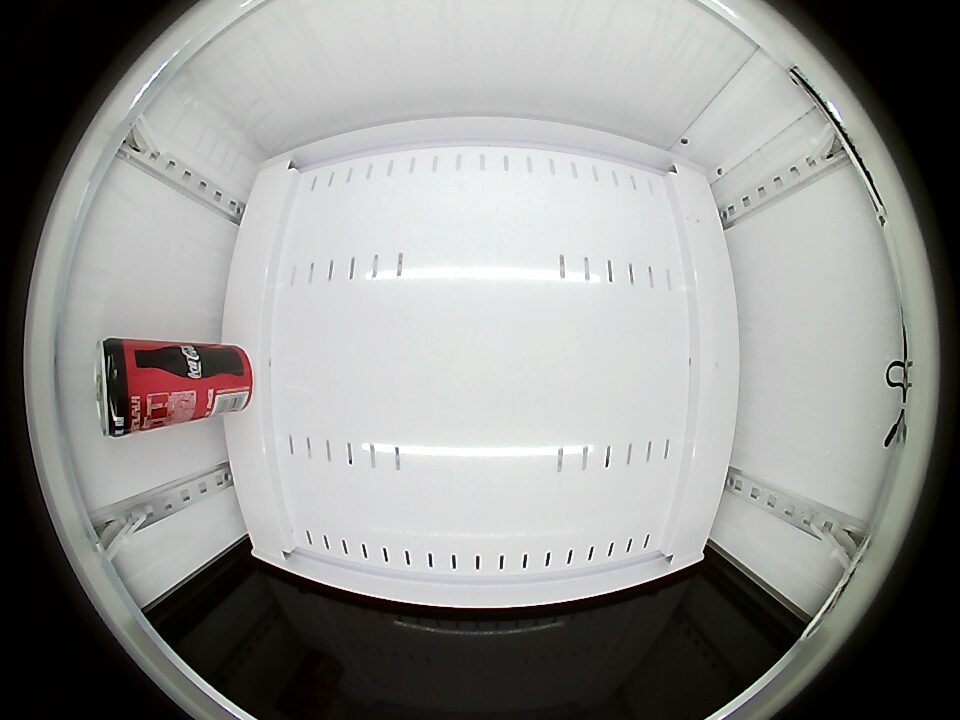lingdukele: (96, 339, 156, 438)
